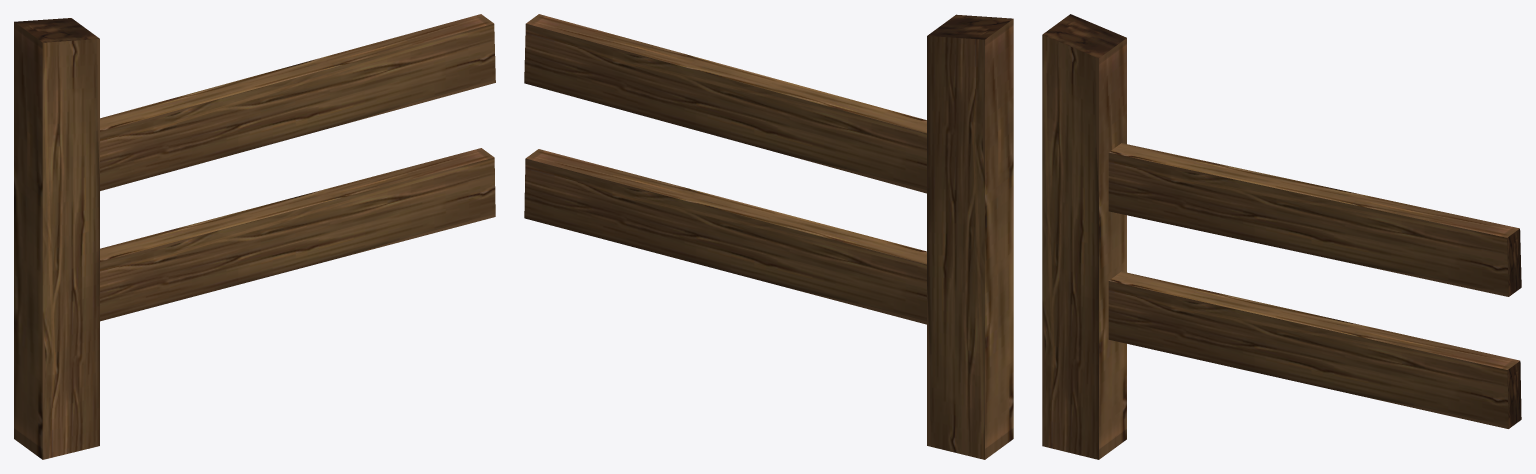
Rendered from fanasty_mod_gro_fence07.fbx.
3 views of the same model, side by side, from view 1: azimuth 30°, elevation 25°; view 2: azimuth 150°, elevation 25°; view 3: azimuth 330°, elevation 25° (orthographic). The views are drawn at different scales.
Visible parts, largest first — view 1: gro_fence_07; view 2: gro_fence_07; view 3: gro_fence_07.
Boxes of the visible parts, left/top/right/bottom form: gro_fence_07: left=14, top=14, right=495, bottom=459; gro_fence_07: left=524, top=14, right=1013, bottom=459; gro_fence_07: left=1042, top=14, right=1521, bottom=459.
Size of the model in its own units: 1.51 by 1.3 by 0.1616.
